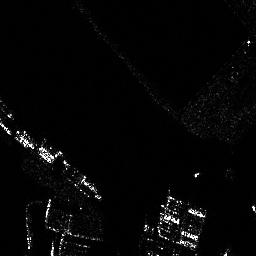ship: (22, 211, 34, 249)
